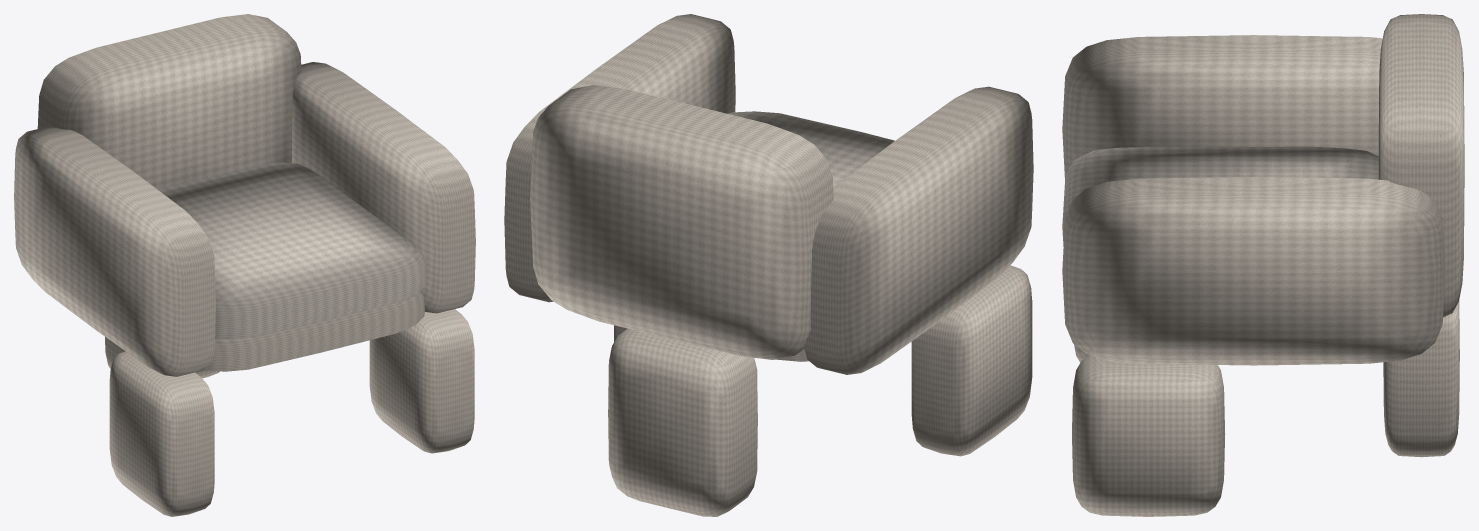
The picture shows the model from 3 angles, left to right: view 1: azimuth 30°, elevation 25°; view 2: azimuth 150°, elevation 25°; view 3: azimuth 270°, elevation 25°; orthographic projection. The views are drawn at different scales.
Parts seen in each view (by area): view 1: 4 left_armrest, 3 backrest, 2 seat, 5 right_armrest, 6 front_left_leg, 7 front_right_leg, 1 seat_base; view 2: 3 backrest, 4 left_armrest, 8 back_leg, 6 front_left_leg, 5 right_armrest, 2 seat; view 3: 5 right_armrest, 4 left_armrest, 7 front_right_leg, 3 backrest, 2 seat, 8 back_leg.
Part boxes in pixels (x1,y1,x2,y2): 4 left_armrest: [14, 126, 215, 376]; 3 backrest: [37, 14, 301, 189]; 2 seat: [158, 162, 426, 339]; 5 right_armrest: [292, 62, 475, 313]; 6 front_left_leg: [109, 351, 214, 516]; 7 front_right_leg: [369, 309, 474, 453]; 1 seat_base: [204, 291, 424, 371]; 3 backrest: [530, 85, 833, 359]; 4 left_armrest: [804, 86, 1033, 374]; 8 back_leg: [608, 328, 757, 516]; 6 front_left_leg: [911, 265, 1032, 456]; 5 right_armrest: [504, 14, 735, 302]; 2 seat: [728, 111, 894, 187]; 5 right_armrest: [1062, 177, 1445, 365]; 4 left_armrest: [1062, 35, 1382, 178]; 7 front_right_leg: [1072, 355, 1225, 516]; 3 backrest: [1378, 14, 1464, 317]; 2 seat: [1062, 146, 1378, 246]; 8 back_leg: [1383, 301, 1459, 457].
Size of the model in its own units: 0.6858 by 0.7112 by 0.6858.
Materials: 2 (2 with a texture image).
